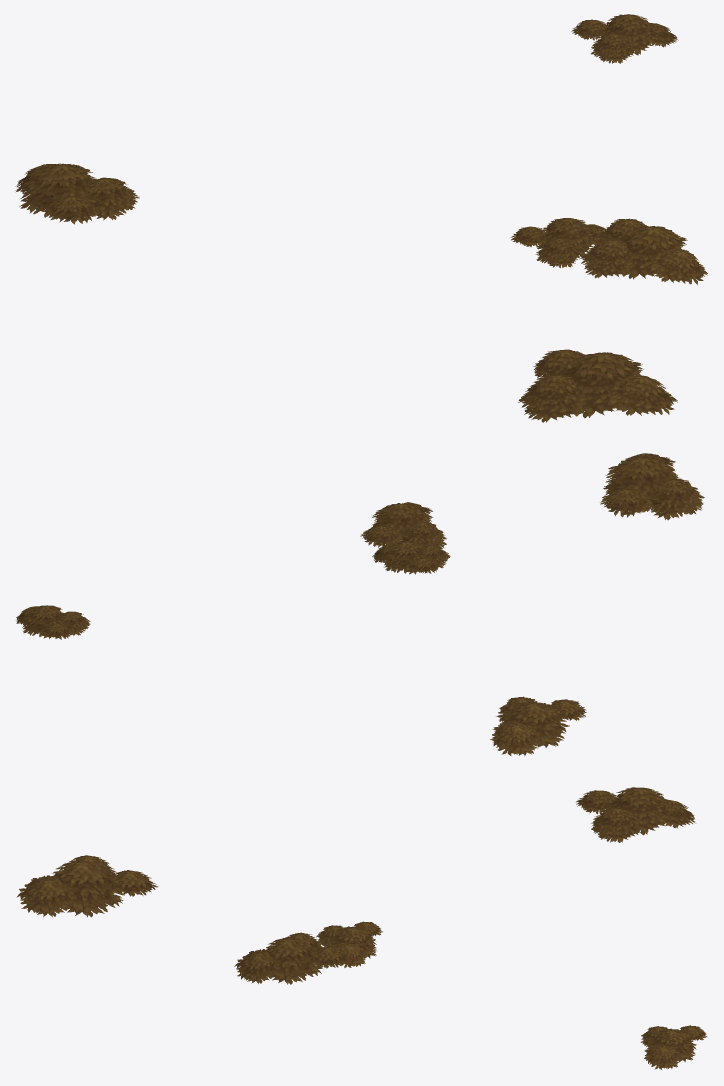
The model's file is yanshi19_wujian1_1.fbx.
The picture shows the model from 3 angles, top to bottom: view 1: azimuth 30°, elevation 25°; view 2: azimuth 150°, elevation 25°; view 3: azimuth 270°, elevation 25°; orthographic projection. The views are drawn at different scales.
Visible parts, largest first — view 1: yanshi19_wujian1_1; view 2: yanshi19_wujian1_1; view 3: yanshi19_wujian1_1.
Part boxes in pixels (x1,y1,x2,y2): yanshi19_wujian1_1: (15, 14, 707, 422); yanshi19_wujian1_1: (16, 453, 704, 756); yanshi19_wujian1_1: (16, 787, 707, 1069).
Size of the model in its own units: 2745 by 192 by 2993.
